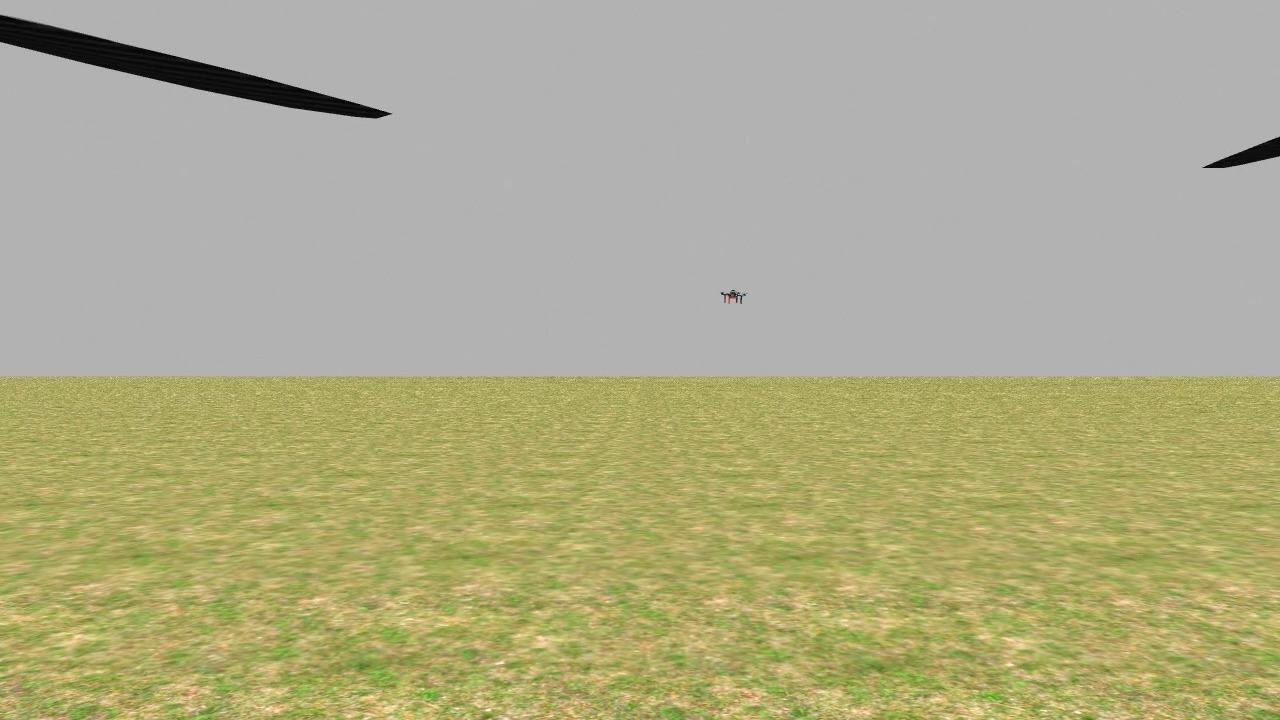UAV: (711, 273, 755, 311)
